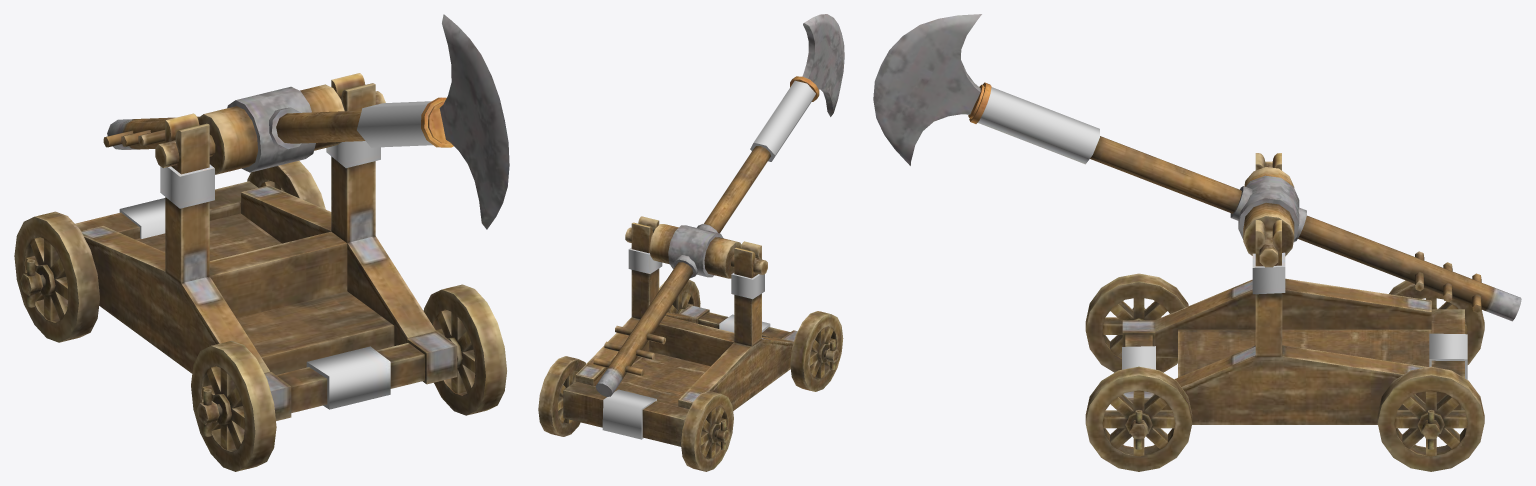
The model's file is 259-axecart.glb.
3 views of the same model, side by side, from view 1: azimuth 30°, elevation 25°; view 2: azimuth 150°, elevation 25°; view 3: azimuth 270°, elevation 25° (orthographic). The views are drawn at different scales.
Bounding box in the file's own units: 2.41 × 3.86 × 5.57.
Materials: 1 (1 with a texture image).
